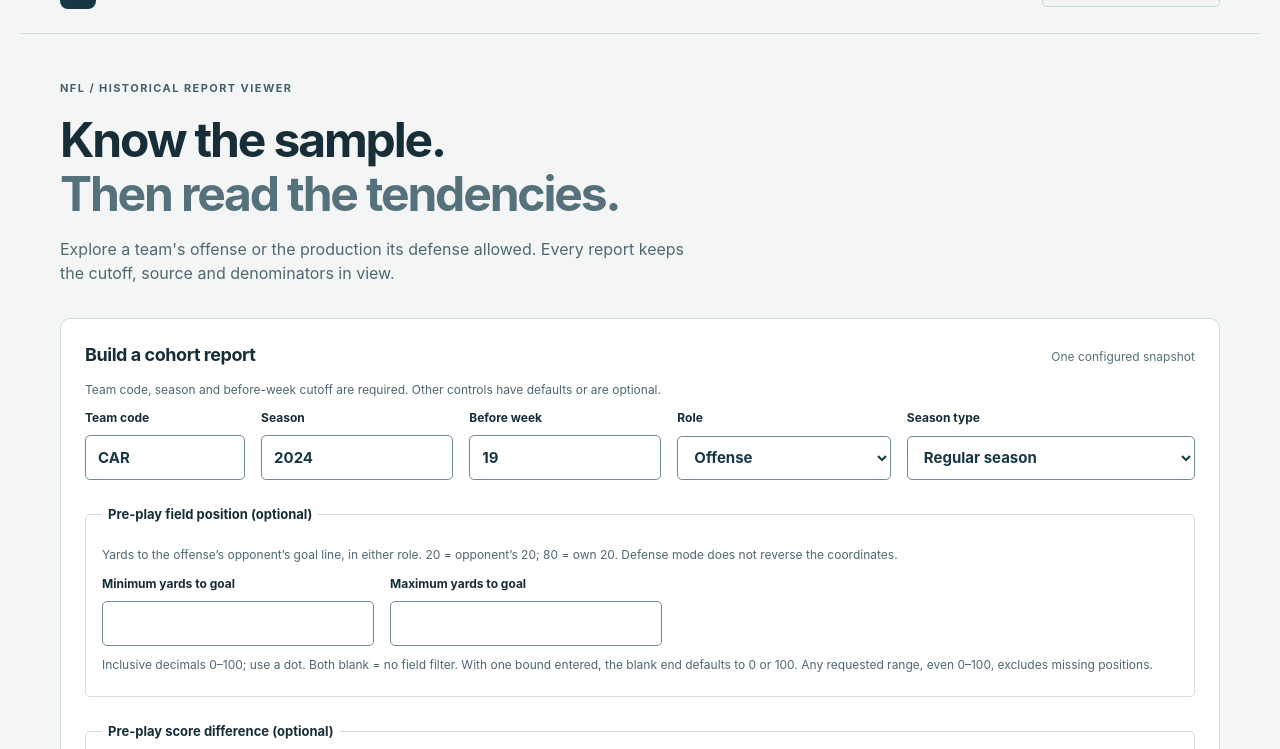
Test case: download follows the displayed response, never a stale draft › never enables a link after an unreadable response
The image size is (1280, 749).
Replace the text in the number field labelled "Before week" with "3" at x=565, y=458, box [469,435,661,480]
(page scrolled)
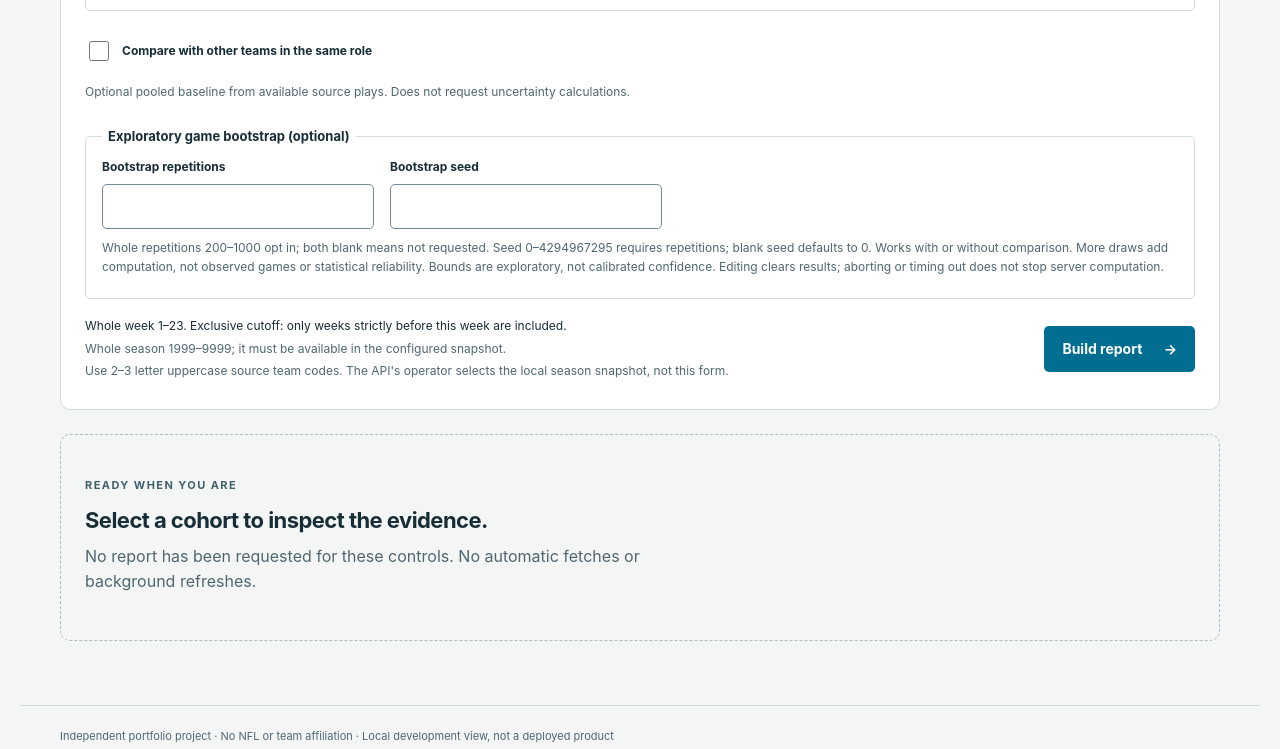
Click the button "Build report →".
click(1120, 349)  # box [1044,326,1195,372]
(page scrolled)
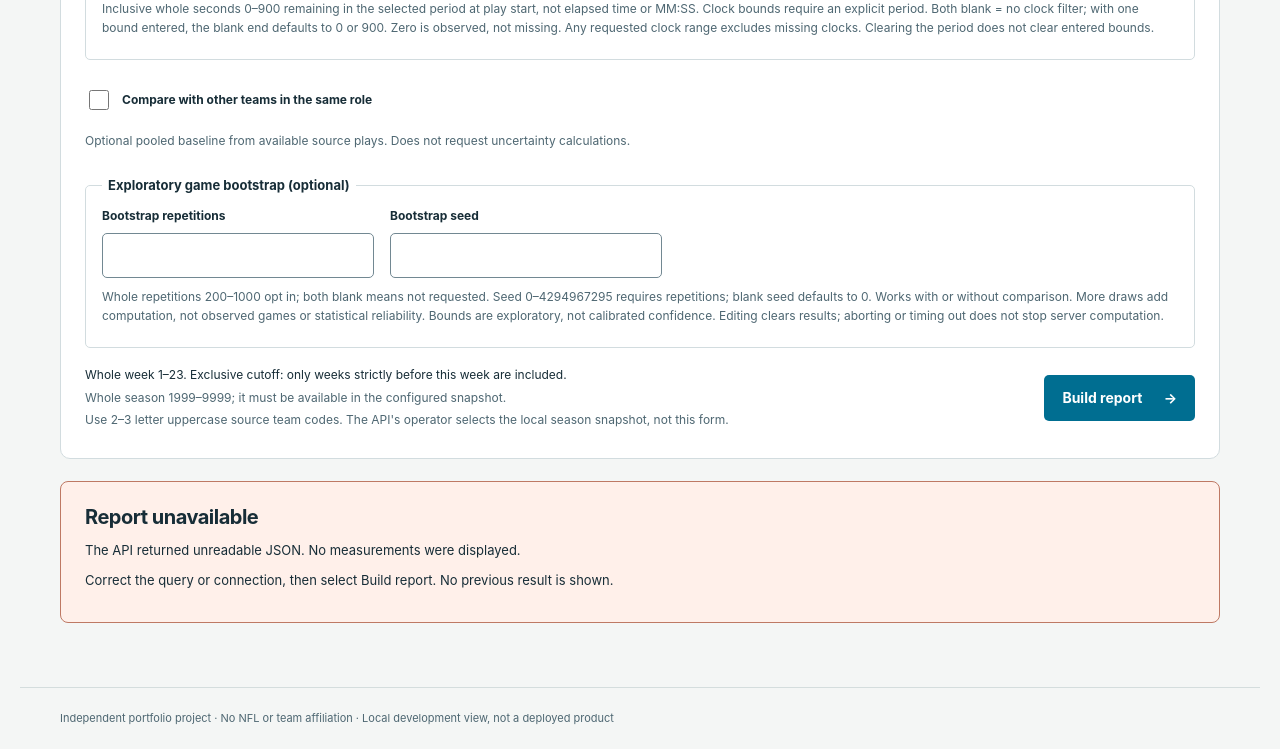
Result: the message is shown at [60,481,1220,623]
